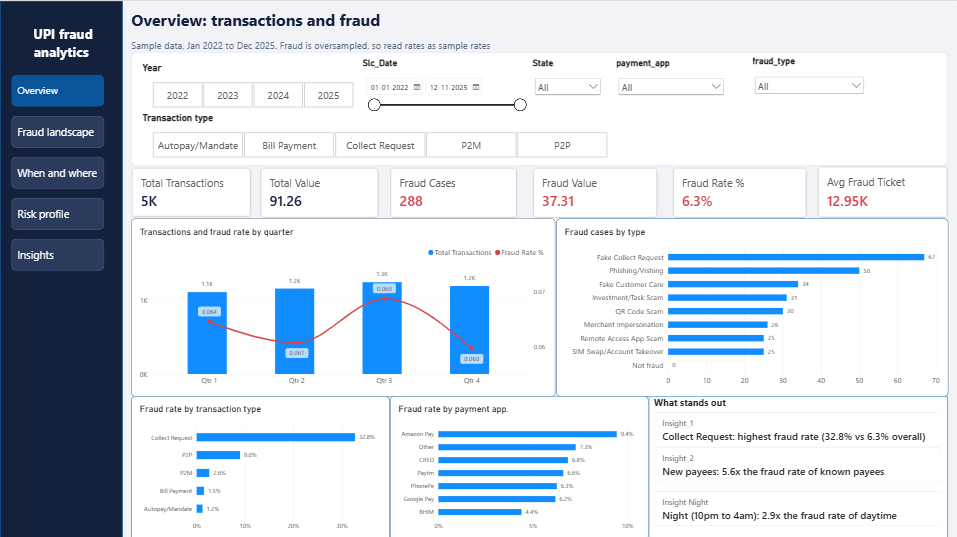

The dashboard page shown, as its layout file describes it:
{"tool":"powerbi","page":{"name":"Overview","canvas":[1920,1080],"ordinal":0},"visuals":[{"type":"textbox","box":[263.5,14.4,1146.5,88.5],"z":0},{"type":"shape","box":[0,0,244.9,1080.6],"z":1000},{"type":"textbox","box":[0,47.3,244.9,72],"z":2000},{"type":"pageNavigator","box":[23.5,147.5,186,393.4],"z":3000},{"type":"shape","box":[263.5,102.9,1632.3,226.4],"z":4000},{"type":"slicer","title":"Year","fields":{"Values":["upi_transactions_2022_2025_clean_5k.txn_datetime.Variation.Date Hierarchy.Year"]},"box":[284,123.5,440.5,92.6],"z":5000},{"type":"slicer","title":"Slc_Date","fields":{"Values":["upi_transactions_2022_2025_clean_5k.txn_datetime"]},"box":[724.5,113.2,341.7,119.4],"z":6000},{"type":"slicer","title":"State","fields":{"Values":["upi_transactions_2022_2025_clean_5k.device_type"]},"box":[1066.2,113.2,142,119.4],"z":7000},{"type":"slicer","title":"payment_app","fields":{"Values":["upi_transactions_2022_2025_clean_5k.payment_app"]},"box":[1232.9,113.2,220.2,119.4],"z":8000},{"type":"slicer","title":"fraud_type","fields":{"Values":["upi_transactions_2022_2025_clean_5k.fraud_type"]},"box":[1504.6,111.1,228.5,119.4],"z":9000},{"type":"slicer","title":"Transaction type","fields":{"Values":["upi_transactions_2022_2025_clean_5k.txn_type"]},"box":[284,222.3,948.9,92.6],"z":10000},{"type":"cardVisual","fields":{"Data":["Measures (2).Total Transactions"]},"box":[263.5,333.4,240.8,100.9],"z":11000},{"type":"cardVisual","fields":{"Data":["Measures (2).Fraud Value"]},"box":[1066.2,331.4,251.1,102.9],"z":12000},{"type":"cardVisual","fields":{"Data":["Measures (2).Fraud Cases"]},"box":[780.1,331.4,255.2,102.9],"z":13000},{"type":"cardVisual","fields":{"Data":["Measures (2).Total Value"]},"box":[520.8,331.4,238.8,102.9],"z":14000},{"type":"cardVisual","fields":{"Data":["Measures (2).Avg Fraud Ticket"]},"box":[1634.3,329.3,261.4,105],"z":15000},{"type":"cardVisual","fields":{"Data":["Measures (2).Fraud Rate %"]},"box":[1344.1,331.4,269.6,102.9],"z":16000},{"type":"lineClusteredColumnComboChart","title":"Transactions and fraud rate by quarter","fields":{"Category":["upi_transactions_2022_2025_clean_5k.txn_datetime.Variation.Date Hierarchy.Quarter"],"Y":["Measures (2).Total Transactions"],"Y2":["Measures (2).Fraud Rate %"]},"box":[263.5,434.3,848,356.1],"z":17000},{"type":"clusteredBarChart","title":"Fraud cases by type","fields":{"Category":["upi_transactions_2022_2025_clean_5k.fraud_type"],"Y":["Measures (2).Fraud Cases"]},"box":[1111.5,434.3,784.2,356.1],"z":18000},{"type":"clusteredBarChart","title":"Fraud rate by transaction type","fields":{"Category":["upi_transactions_2022_2025_clean_5k.txn_type"],"Y":["Measures (2).Fraud Rate %"]},"box":[263.5,790.4,516.6,290.2],"z":19000},{"type":"clusteredBarChart","title":"Fraud rate by payment app.","fields":{"Category":["upi_transactions_2022_2025_clean_5k.payment_app"],"Y":["Measures (2).Fraud Rate %"]},"box":[780.4,791.1,516.6,290.2],"z":20000},{"type":"shape","box":[1297,791,598,289],"z":21000},{"type":"textbox","box":[1297.8,791.1,526,32.1],"z":22000},{"type":"cardVisual","fields":{"Data":["Measures (2).Insight Top Type"]},"box":[1306.4,823.2,575.1,70.6],"z":23000},{"type":"cardVisual","fields":{"Data":["Measures (2).Insight New Payee"]},"box":[1306.4,893.7,575.1,70.6],"z":24000},{"type":"cardVisual","fields":{"Data":["Measures (2).Insight Night"]},"box":[1306.4,979.2,575.1,70.6],"z":25000}]}

Visuals, with their boxes on the page's 1920x1080 design canvas (x1, y1, x2, y2). These are canvas units, not pixel positions in the 957x537 screenshot, which may show the page scaled, cropped or inside an application window:
textbox: locate(264, 14, 1410, 103)
shape: locate(0, 0, 245, 1081)
textbox: locate(0, 47, 245, 119)
pageNavigator: locate(24, 148, 210, 541)
shape: locate(264, 103, 1896, 329)
"Year" slicer: locate(284, 124, 724, 216)
"Slc_Date" slicer: locate(724, 113, 1066, 233)
"State" slicer: locate(1066, 113, 1208, 233)
"payment_app" slicer: locate(1233, 113, 1453, 233)
"fraud_type" slicer: locate(1505, 111, 1733, 230)
"Transaction type" slicer: locate(284, 222, 1233, 315)
cardVisual - Measures (2).Total Transactions: locate(264, 333, 504, 434)
cardVisual - Measures (2).Fraud Value: locate(1066, 331, 1317, 434)
cardVisual - Measures (2).Fraud Cases: locate(780, 331, 1035, 434)
cardVisual - Measures (2).Total Value: locate(521, 331, 760, 434)
cardVisual - Measures (2).Avg Fraud Ticket: locate(1634, 329, 1896, 434)
cardVisual - Measures (2).Fraud Rate %: locate(1344, 331, 1614, 434)
"Transactions and fraud rate by quarter" lineClusteredColumnComboChart: locate(264, 434, 1112, 790)
"Fraud cases by type" clusteredBarChart: locate(1112, 434, 1896, 790)
"Fraud rate by transaction type" clusteredBarChart: locate(264, 790, 780, 1081)
"Fraud rate by payment app." clusteredBarChart: locate(780, 791, 1297, 1081)
shape: locate(1297, 791, 1895, 1080)
textbox: locate(1298, 791, 1824, 823)
cardVisual - Measures (2).Insight Top Type: locate(1306, 823, 1882, 894)
cardVisual - Measures (2).Insight New Payee: locate(1306, 894, 1882, 964)
cardVisual - Measures (2).Insight Night: locate(1306, 979, 1882, 1050)
